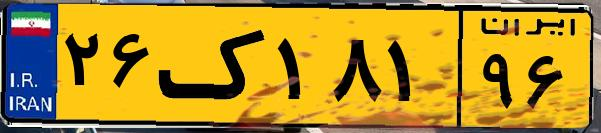1: (270, 28, 330, 110), (385, 28, 445, 110)
2: (57, 26, 110, 100)
6: (525, 38, 570, 115), (110, 28, 158, 98)
8: (330, 28, 385, 110)
9: (475, 38, 525, 113)
ک: (158, 12, 270, 120)
